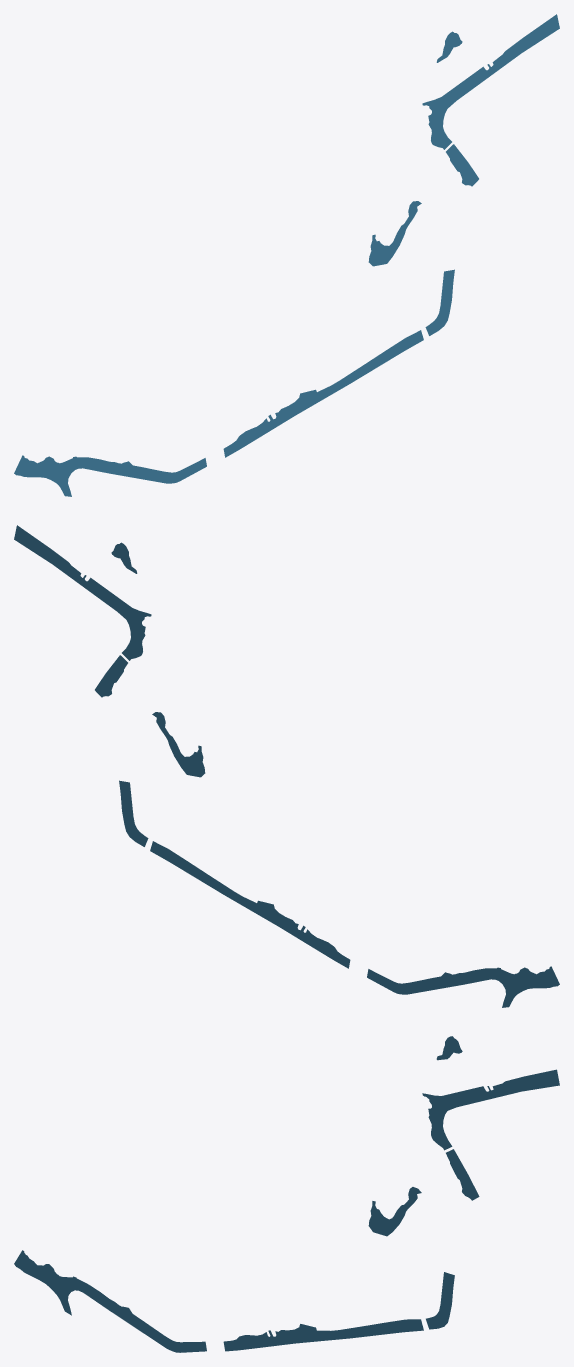
File: water.obj
3 renders of one model, top to bottom at view 1: azimuth 30°, elevation 25°; view 2: azimuth 150°, elevation 25°; view 3: azimuth 330°, elevation 25°, orthographic.
Parts seen in each view (by area): view 1: shanghai_century_park_water; view 2: shanghai_century_park_water; view 3: shanghai_century_park_water.
Part boxes in pixels (left/top/right/bottom): shanghai_century_park_water: left=14, top=14, right=559, bottom=496; shanghai_century_park_water: left=14, top=525, right=559, bottom=1007; shanghai_century_park_water: left=14, top=1036, right=559, bottom=1352.
Bounding box in the file's own units: 1468 × 986 × 0.
